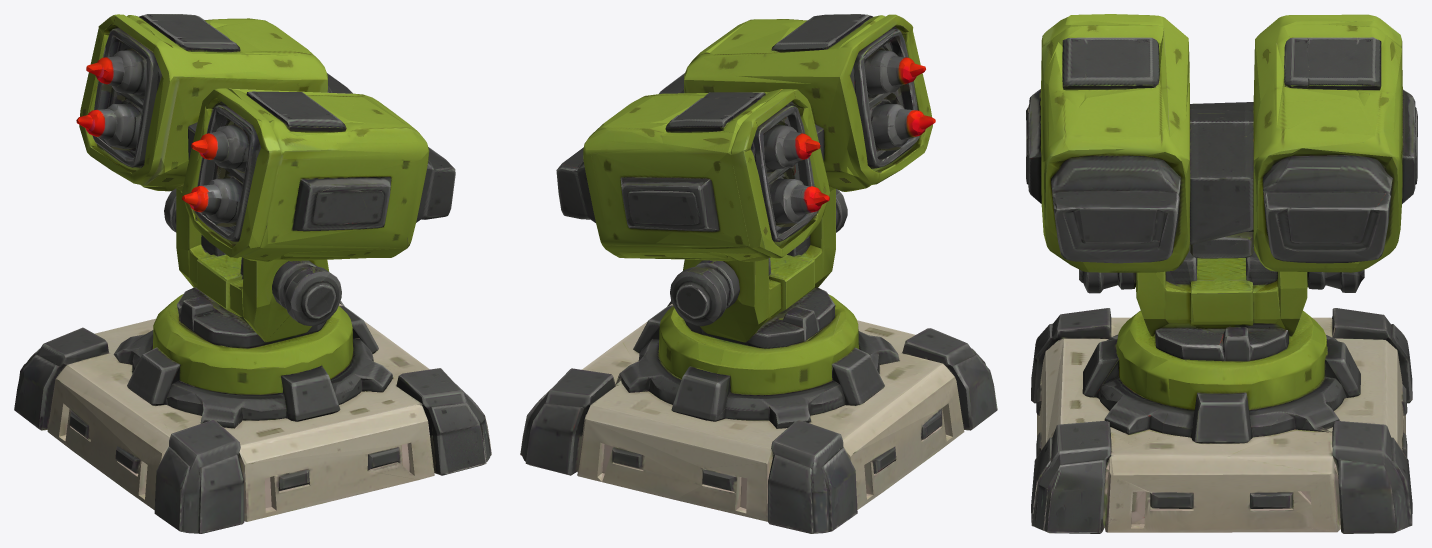
File: m11_missile_cannon.glb
The picture shows the model from 3 angles, left to right: view 1: azimuth 30°, elevation 25°; view 2: azimuth 150°, elevation 25°; view 3: azimuth 270°, elevation 25°; orthographic projection. The views are drawn at different scales.
Bounding box in the file's own units: 1.62 × 1.9 × 1.66.
Materials: 1 (1 with a texture image).
